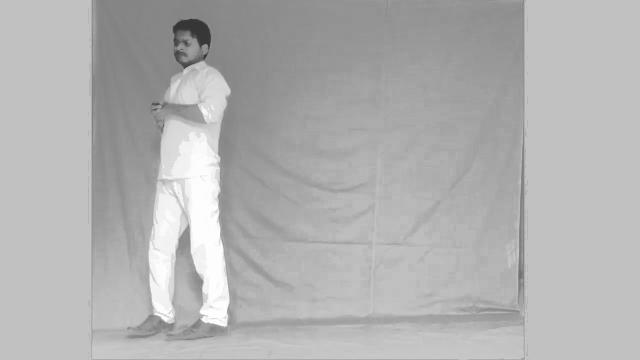berjalan: (134, 13, 232, 345)
